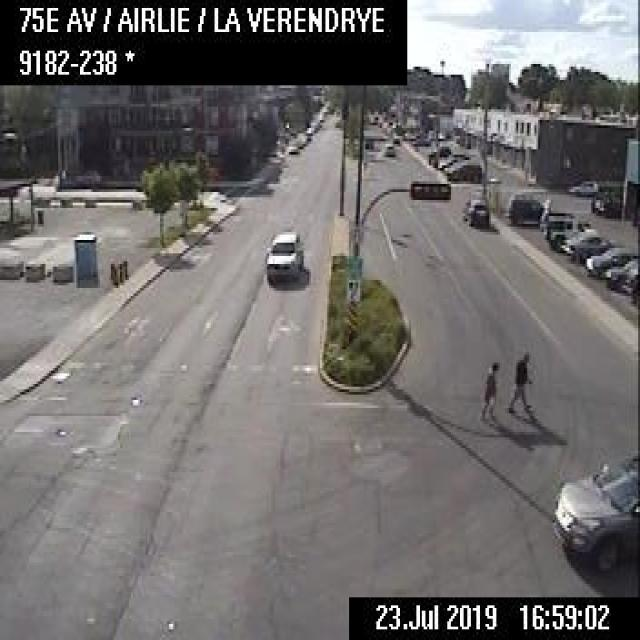construction: (121, 257, 126, 277), (112, 264, 117, 284), (117, 261, 121, 281), (109, 260, 112, 278)
pedestrian: (505, 349, 531, 414), (476, 360, 500, 424)
vehicle: (551, 446, 638, 582), (262, 226, 304, 282), (541, 210, 589, 250), (581, 243, 637, 274), (506, 195, 544, 224), (460, 192, 491, 227), (602, 255, 638, 285), (562, 226, 596, 252), (445, 158, 480, 181), (565, 176, 600, 195), (434, 151, 468, 169), (427, 142, 449, 158), (410, 134, 429, 144), (382, 142, 393, 155), (362, 135, 373, 148), (287, 141, 298, 153), (292, 136, 302, 146), (303, 126, 312, 135), (390, 134, 398, 144)
